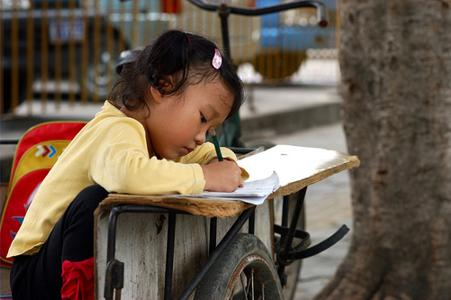person: (10, 31, 246, 300)
